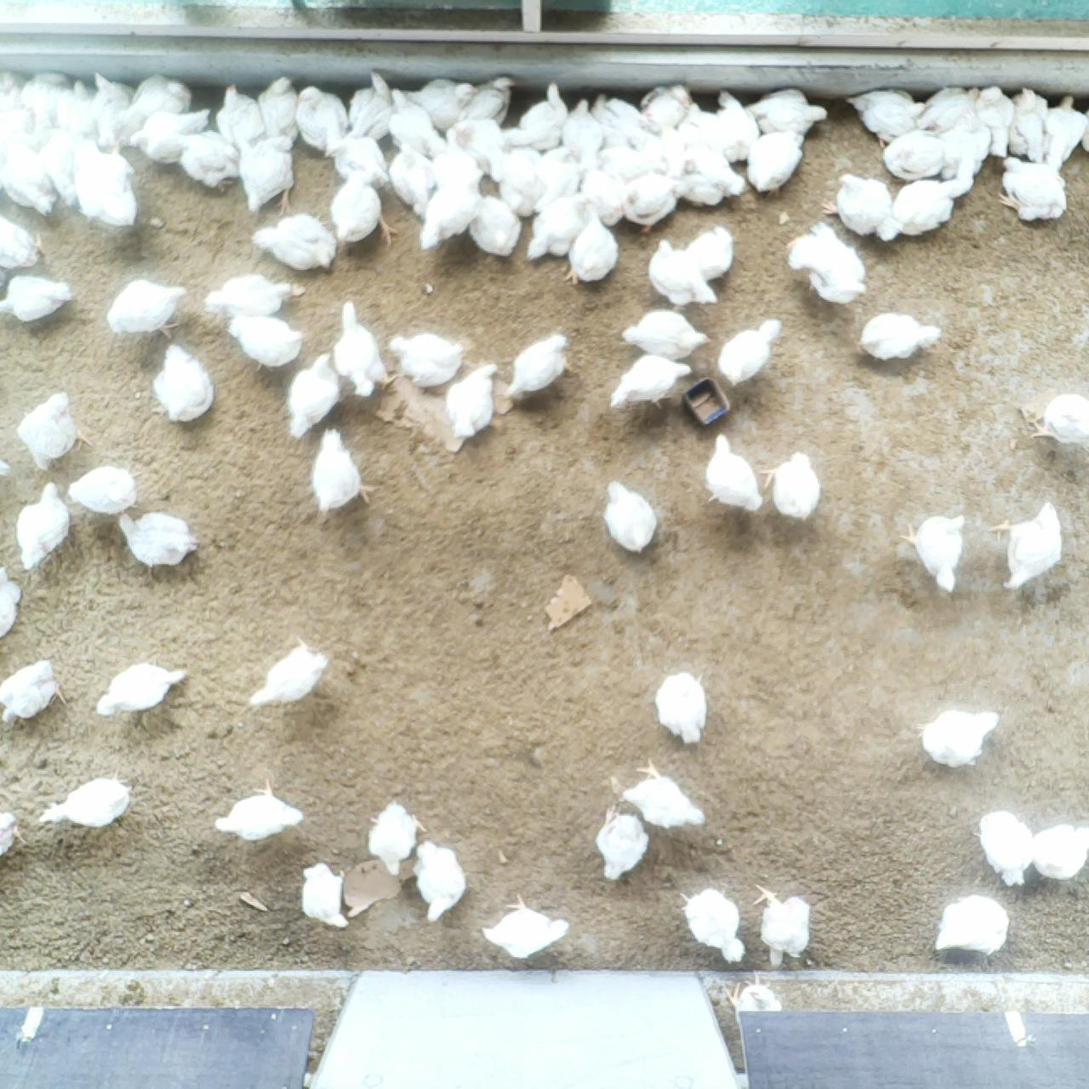chicken: (988, 500, 1063, 596), (69, 134, 141, 227), (787, 224, 868, 306), (250, 636, 335, 711), (621, 758, 706, 833), (307, 429, 377, 518), (482, 892, 572, 961), (213, 778, 308, 843), (116, 509, 200, 582), (18, 391, 93, 472), (220, 307, 308, 373), (416, 168, 485, 252), (93, 660, 192, 718), (151, 341, 216, 428), (914, 705, 1002, 768), (902, 512, 968, 595), (823, 170, 899, 242), (282, 349, 342, 440), (331, 298, 385, 399), (40, 772, 133, 830), (564, 195, 621, 289), (15, 480, 73, 572), (934, 894, 1011, 963), (678, 885, 745, 964), (620, 305, 711, 363), (646, 240, 718, 313), (106, 279, 192, 340), (971, 807, 1034, 890), (252, 212, 334, 275), (609, 355, 692, 417), (234, 134, 296, 216), (507, 331, 573, 408), (202, 272, 297, 325), (755, 880, 812, 968), (118, 72, 190, 141), (997, 153, 1066, 225), (0, 656, 68, 729), (130, 104, 211, 165), (848, 88, 924, 152), (0, 130, 57, 215), (889, 181, 974, 238), (388, 330, 471, 388), (367, 798, 427, 878), (614, 171, 681, 241), (747, 88, 827, 146), (331, 170, 392, 246), (719, 316, 782, 389), (526, 191, 588, 265), (706, 432, 763, 512), (444, 361, 500, 442), (599, 478, 658, 554), (415, 838, 467, 923), (403, 77, 480, 134), (0, 266, 73, 325), (497, 142, 550, 223), (88, 69, 139, 153), (853, 312, 940, 361), (595, 805, 651, 881), (463, 188, 522, 260), (593, 144, 670, 199), (510, 83, 573, 150), (745, 132, 807, 200), (759, 452, 821, 520), (34, 124, 82, 211), (214, 82, 267, 160), (653, 671, 708, 746), (452, 111, 509, 183), (431, 124, 485, 200), (296, 84, 352, 157), (674, 143, 751, 196), (881, 133, 959, 185), (1041, 89, 1089, 173), (325, 133, 390, 195), (391, 87, 445, 160), (66, 463, 139, 517), (346, 70, 396, 147), (181, 130, 243, 192), (1024, 390, 1089, 449), (297, 859, 351, 930), (916, 86, 983, 142), (388, 142, 438, 217), (712, 89, 760, 167), (525, 145, 580, 213), (1029, 821, 1089, 882), (254, 74, 300, 153), (678, 103, 738, 163), (1009, 85, 1052, 167), (558, 97, 603, 172), (592, 90, 647, 150), (20, 69, 71, 132), (456, 77, 519, 128), (972, 84, 1013, 161), (639, 86, 699, 138), (935, 128, 993, 181), (56, 80, 102, 145), (577, 167, 626, 228), (686, 223, 737, 281), (0, 71, 33, 154), (661, 170, 726, 211), (0, 214, 43, 271), (672, 116, 722, 165), (0, 560, 23, 644), (0, 812, 26, 868)
